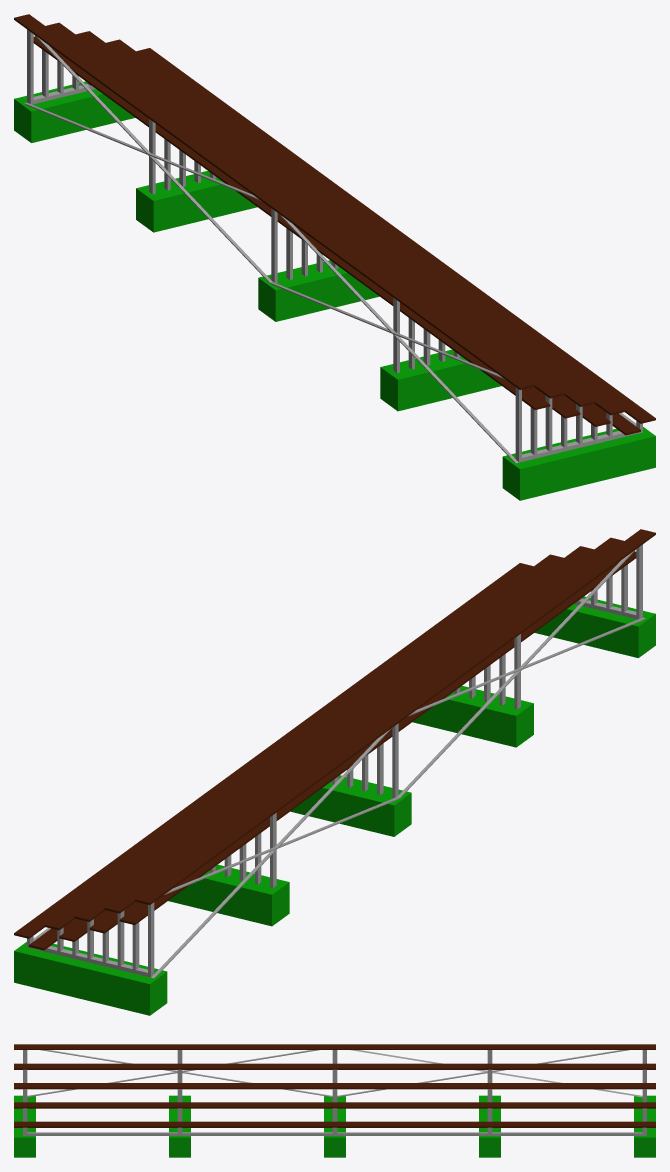
File: Bleachers9.obj
The picture shows the model from 3 angles, top to bottom: view 1: azimuth 30°, elevation 25°; view 2: azimuth 150°, elevation 25°; view 3: azimuth 270°, elevation 25°; orthographic projection. The views are drawn at different scales.
Visible parts, largest first — view 1: Cube_Cube_Material.002, Cube_Cube_Material.001, Cube_Cube_Material; view 2: Cube_Cube_Material.002, Cube_Cube_Material.001, Cube_Cube_Material; view 3: Cube_Cube_Material.002, Cube_Cube_Material, Cube_Cube_Material.001.
Boxes of the visible parts, x1=… form: Cube_Cube_Material.002: x1=14, y1=14, x2=655, y2=435; Cube_Cube_Material.001: x1=14, y1=81, x2=655, y2=500; Cube_Cube_Material: x1=24, y1=29, x2=642, y2=463; Cube_Cube_Material.002: x1=14, y1=529, x2=655, y2=950; Cube_Cube_Material.001: x1=14, y1=596, x2=655, y2=1015; Cube_Cube_Material: x1=27, y1=544, x2=645, y2=978; Cube_Cube_Material.002: x1=14, y1=1044, x2=655, y2=1127; Cube_Cube_Material: x1=23, y1=1050, x2=646, y2=1135; Cube_Cube_Material.001: x1=14, y1=1095, x2=655, y2=1157.
Size of the model in its own units: 9 by 7.12 by 58.
